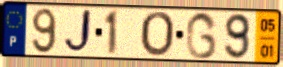1: (103, 8, 123, 58)
9: (222, 11, 252, 62), (30, 6, 60, 55)
G: (184, 11, 219, 61)
J: (62, 7, 94, 56)
O: (139, 10, 177, 59)
